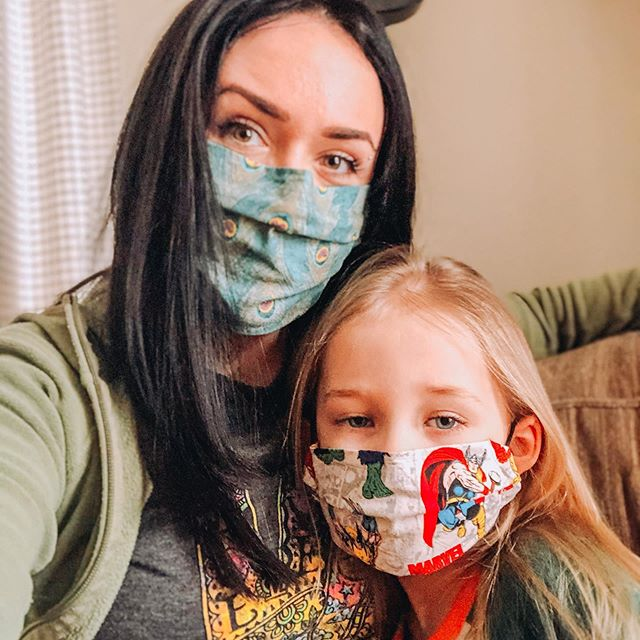homemade: (184, 150, 371, 335), (293, 438, 538, 573)
